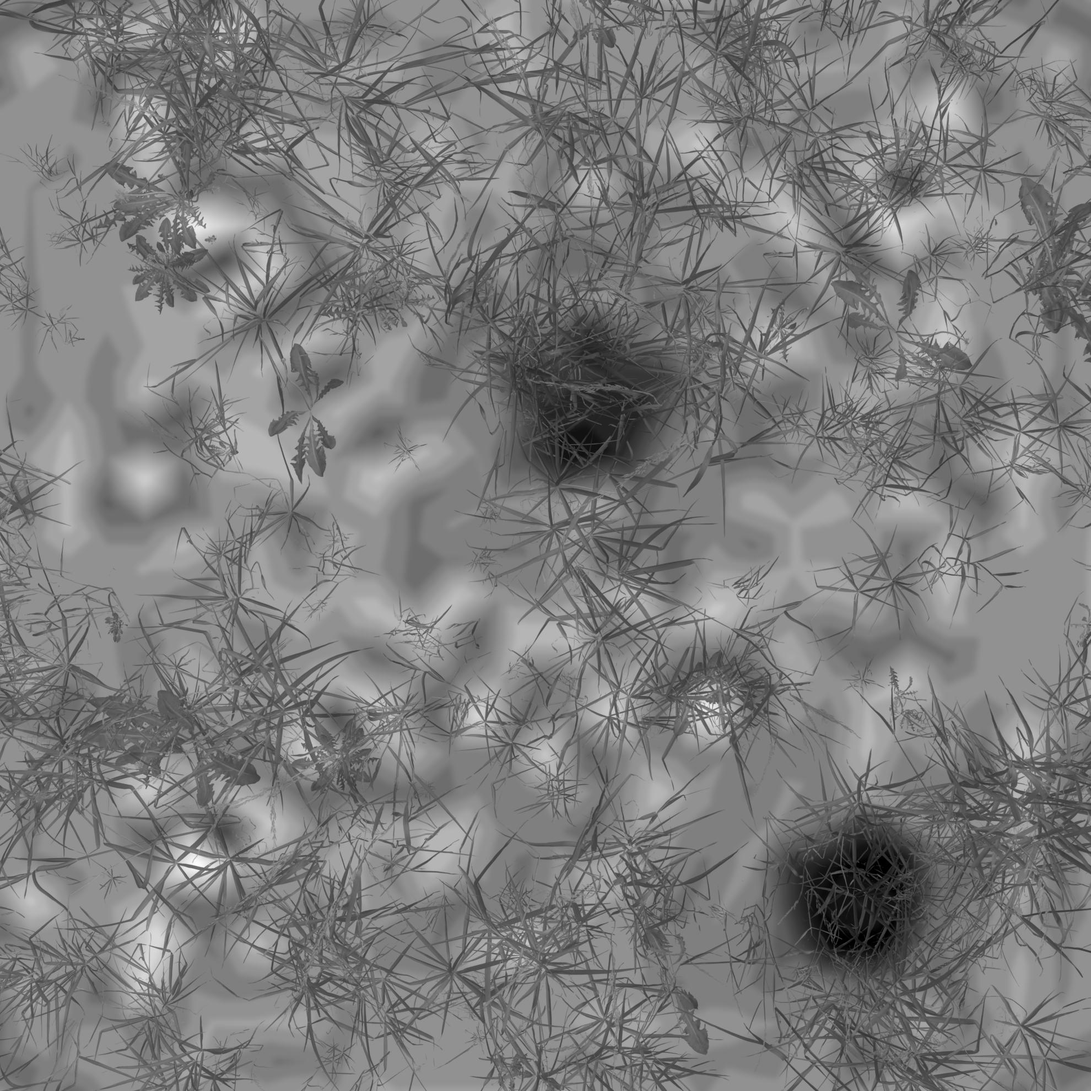landmine: (511, 333, 658, 491), (791, 817, 929, 971)
